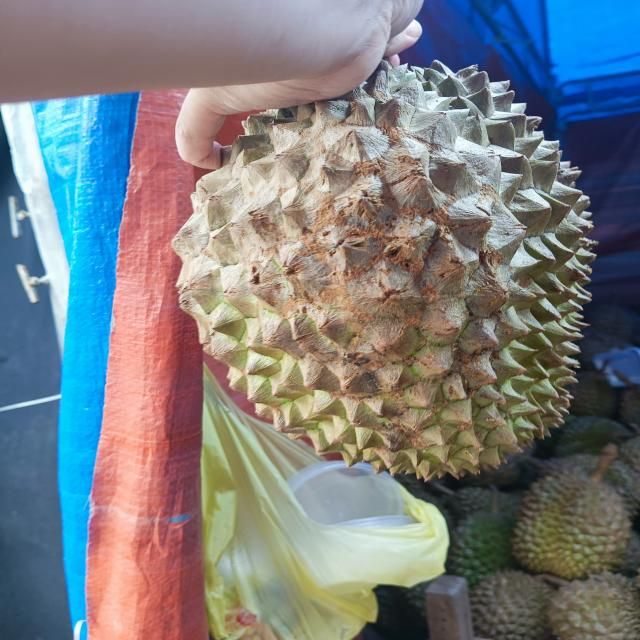mature: (175, 60, 593, 480)
